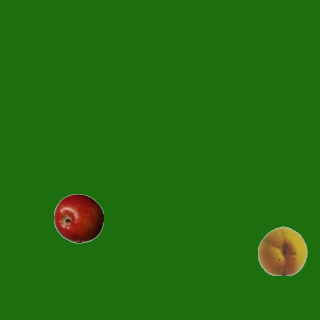Apple Braeburn: (53, 193, 103, 243)
Peach 2: (257, 225, 307, 275)
